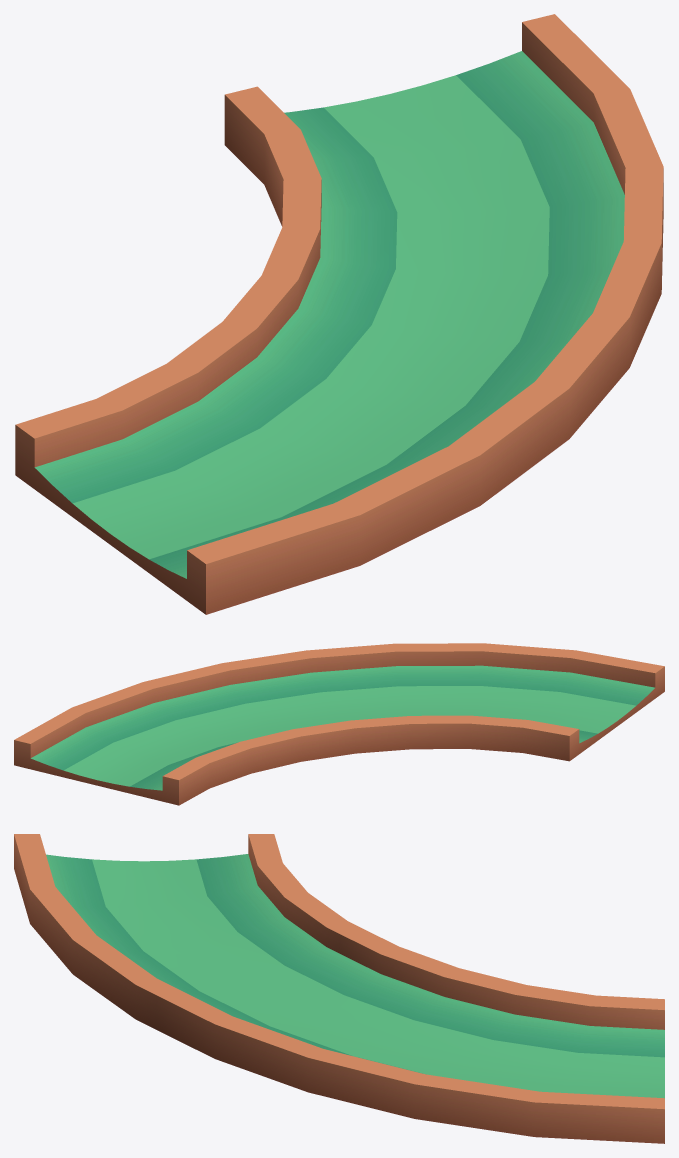
File: spline-concave-corner-small.glb
3 renders of one model, top to bottom at view 1: azimuth 30°, elevation 25°; view 2: azimuth 150°, elevation 25°; view 3: azimuth 270°, elevation 25°, orthographic. The views are drawn at different scales.
Visible parts, largest first — view 1: spline-concave-corner-small; view 2: spline-concave-corner-small; view 3: spline-concave-corner-small.
Boxes of the visible parts, bbox=[...] form: spline-concave-corner-small: bbox=[15, 14, 663, 614]; spline-concave-corner-small: bbox=[14, 643, 664, 805]; spline-concave-corner-small: bbox=[14, 834, 664, 1143].
Size of the model in its own units: 2.5 by 0.1468 by 2.5.
Materials: 1 (1 with a texture image).
